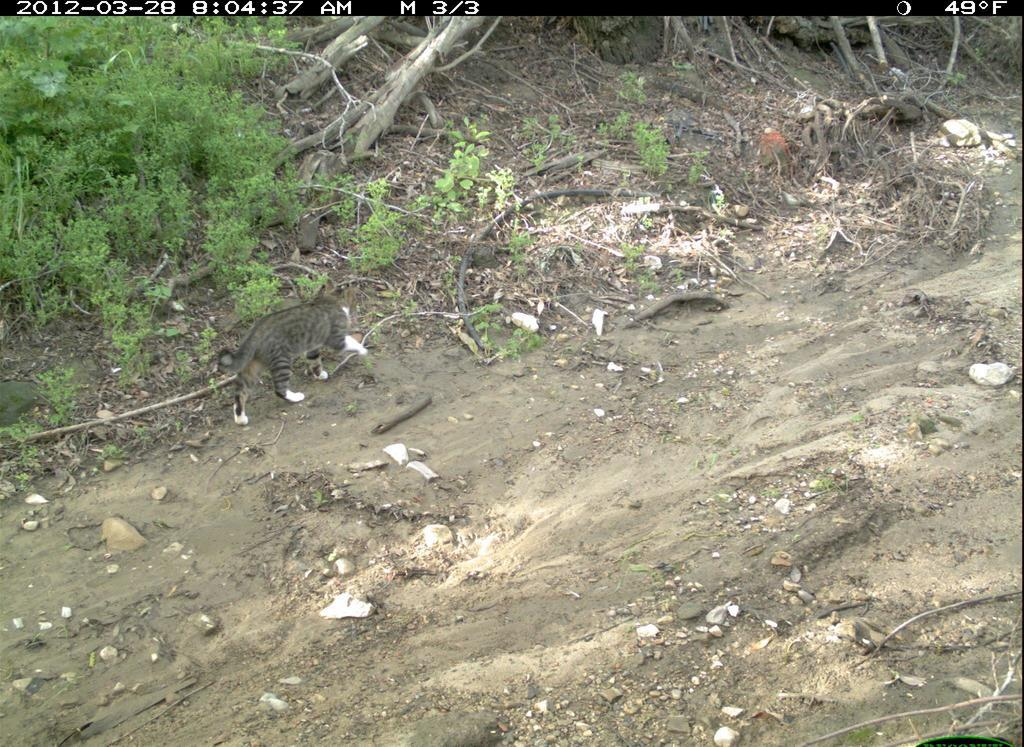cat: (217, 282, 373, 433)
